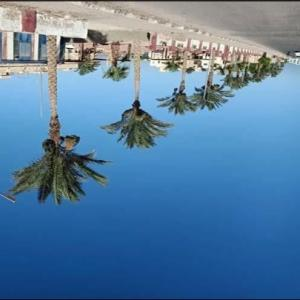palm tree: (4, 35, 111, 206), (100, 38, 173, 148)
